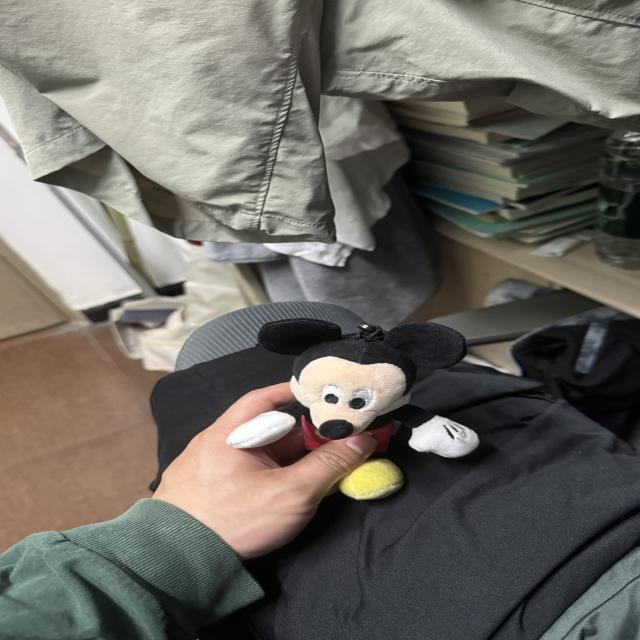mickey: (228, 319, 478, 457)
